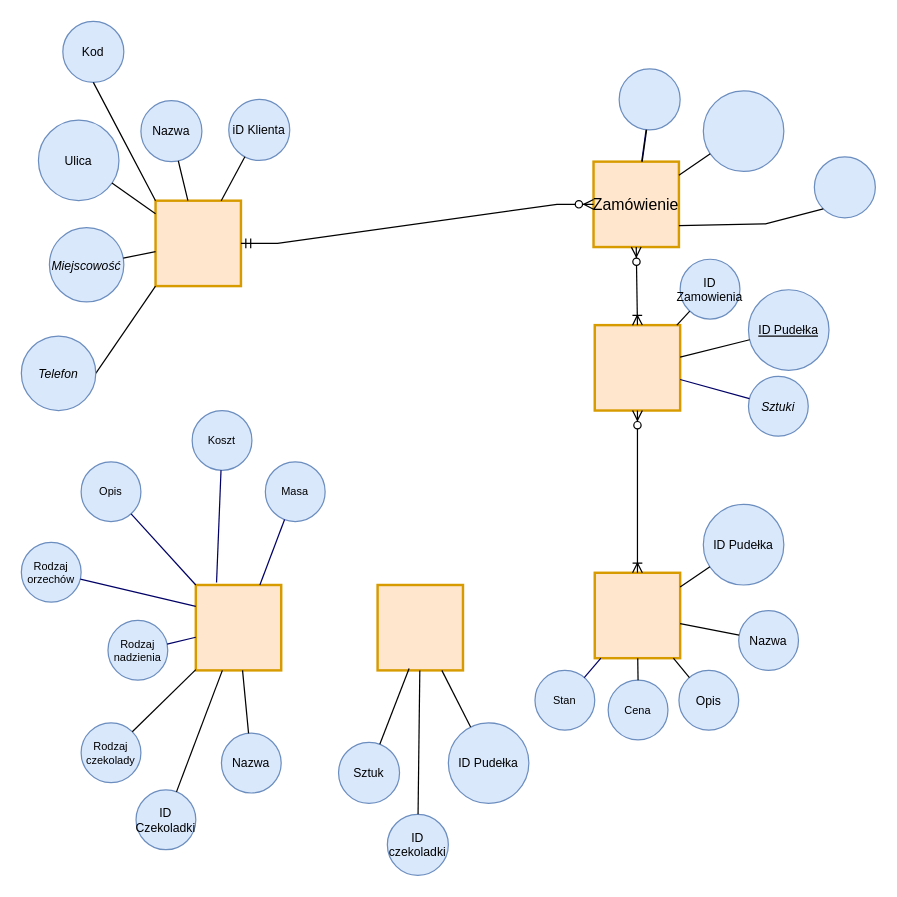
The diagram is 897 pixels wide and 897 high, and some of its shapes have lost their labels. The shapes that lost their labels are listed below. From the top down, each one's box as (x1, y1, x2, y2) in pixels, then its label:
(618, 68, 680, 130): iDKlienta
(702, 90, 784, 171): IDZamowienia
(813, 156, 875, 218): Data realizacji
(154, 199, 242, 287): Klient
(593, 323, 681, 411): Artykuły
(194, 583, 282, 671): Czekoladki
(376, 583, 464, 671): Zawartość
(593, 571, 681, 659): Pudełka
